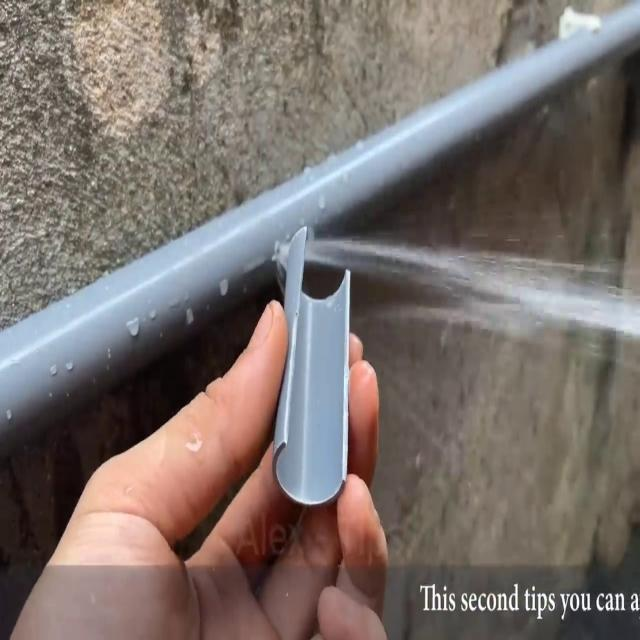leak: (277, 244, 640, 366)
